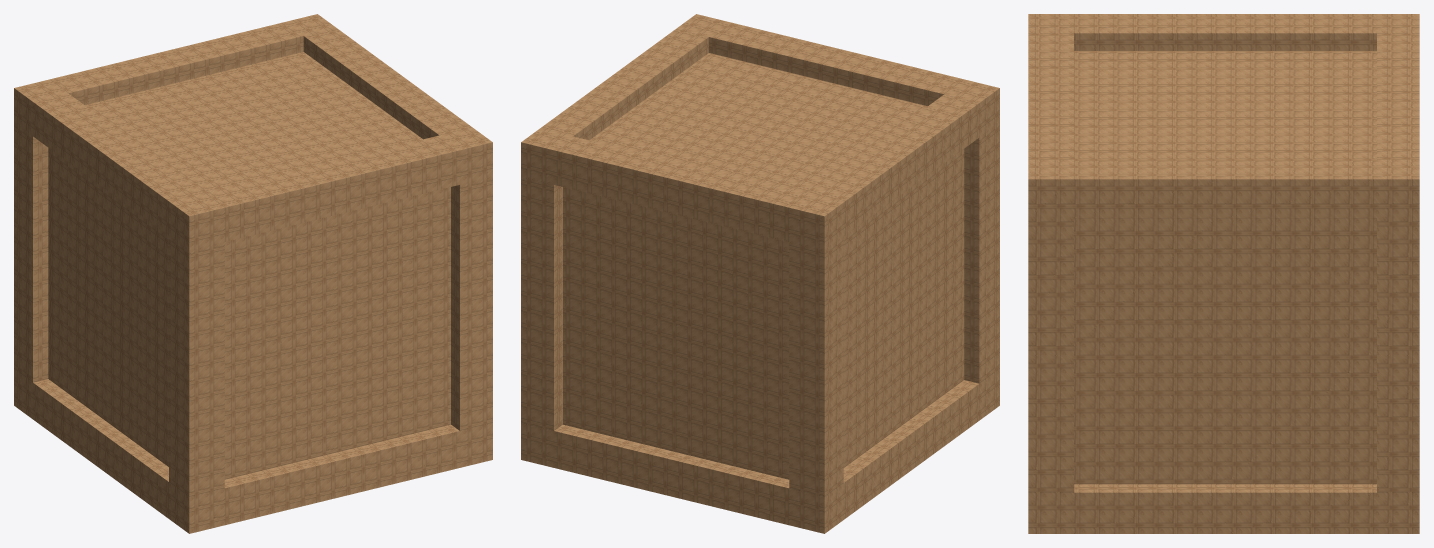
File: caja_pensando.glb
The picture shows the model from 3 angles, left to right: view 1: azimuth 30°, elevation 25°; view 2: azimuth 150°, elevation 25°; view 3: azimuth 270°, elevation 25°; orthographic projection. The views are drawn at different scales.
Visible parts, largest first — view 1: Box001; view 2: Box001; view 3: Box001.
Boxes of the visible parts, x1,y1,x2,y2 form: Box001: [14, 14, 492, 533]; Box001: [521, 14, 999, 533]; Box001: [1028, 14, 1419, 533].
Bounding box in the file's own units: 20 × 20 × 20.
Materials: 1 (1 with a texture image).
